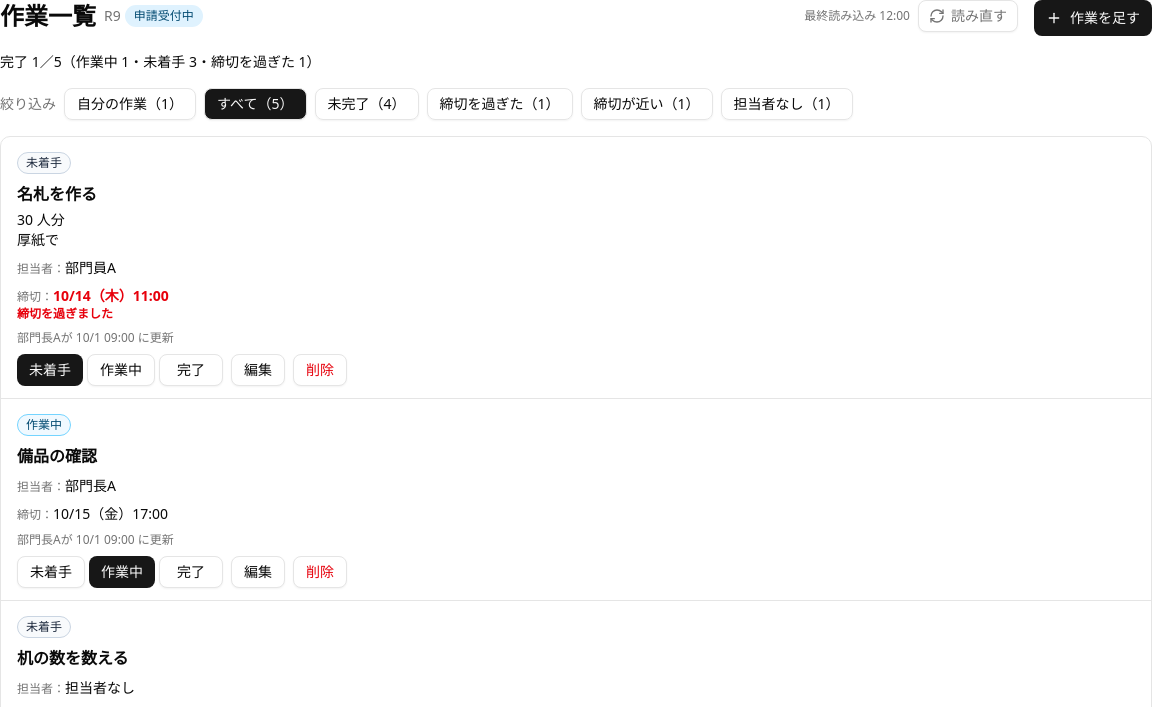
Test: T20 作業一覧：作る（部門長以上。動的 import のダイアログ） › 権限か年度の状態が変わった（42501）：入力とダイアログを残し、送るボタンを押せなくする
The image size is (1152, 707).
Expected: the 1st list item with test id "tasks-item" is shown, [1, 137, 1151, 399]
Click the button with test id "tasks-add" at (1093, 18), box [1034, 0, 1151, 36]
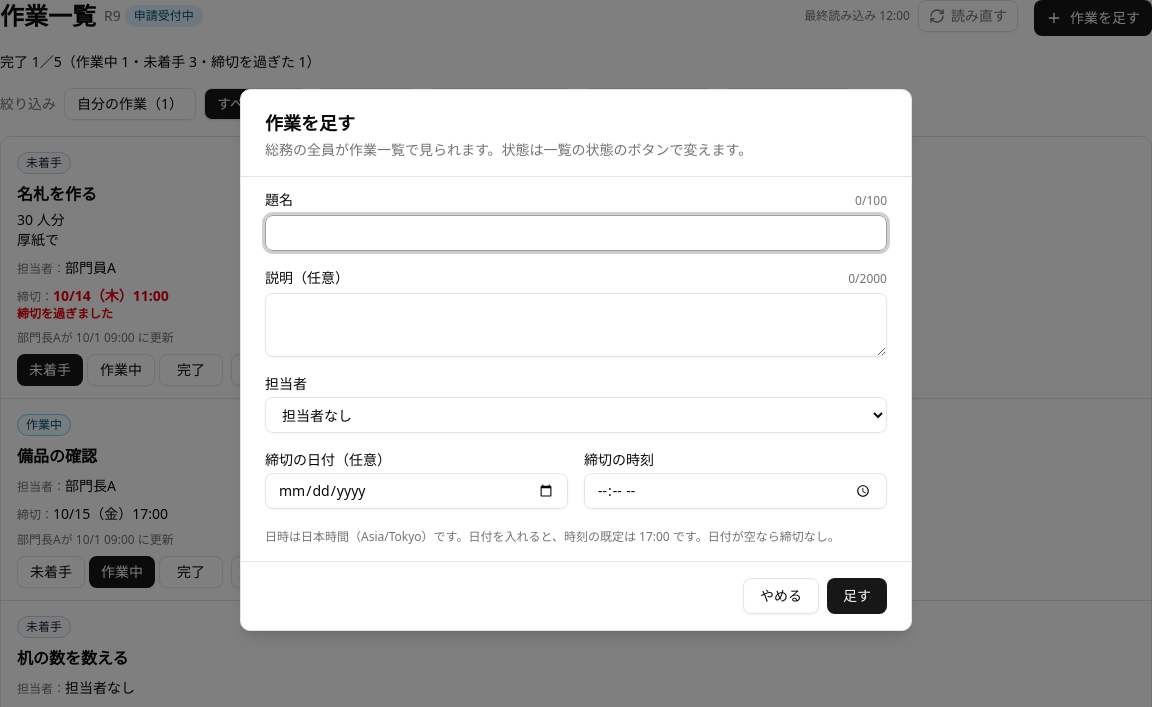
Type "名札" into the field with test id "task-title" at (576, 233), box [265, 215, 887, 251]
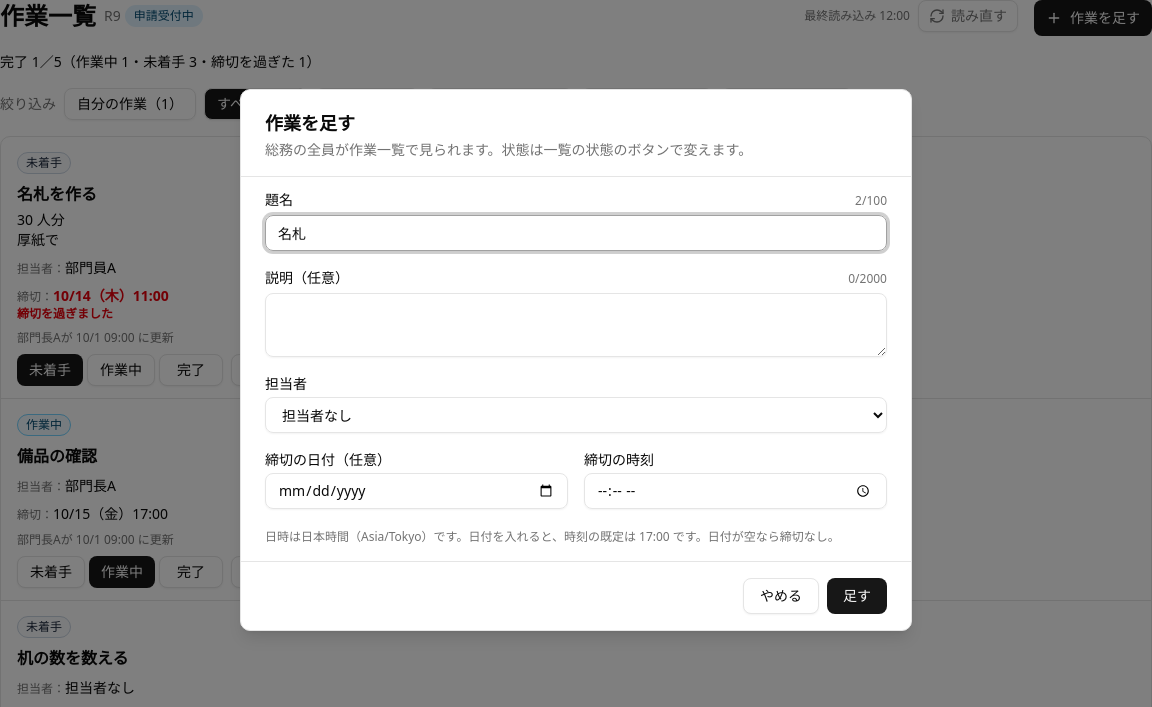
Click the button with test id "task-submit" at (857, 596), box [827, 578, 887, 614]
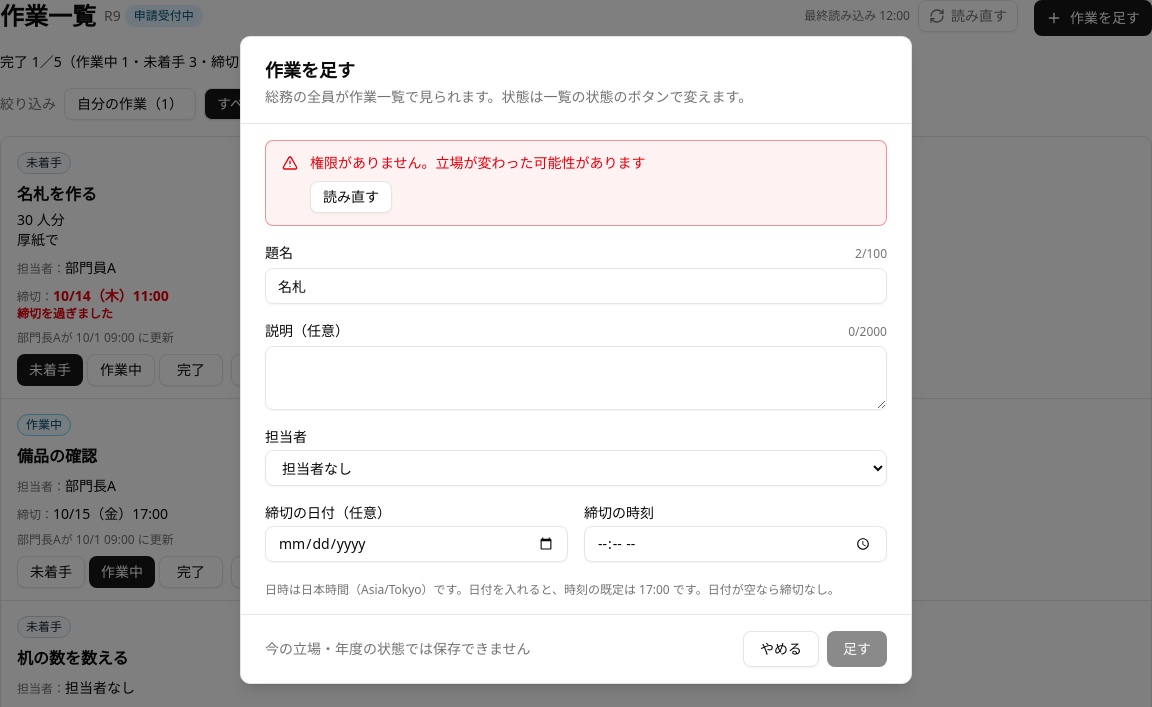
Result: the text "今の立場・年度の状態では保存できません" is shown at [265, 639, 531, 659]
Result: the button with test id "task-submit" is disabled at [827, 631, 887, 667]
Result: the element with test id "task-error" shows "権限がありません" at [310, 153, 646, 172]
